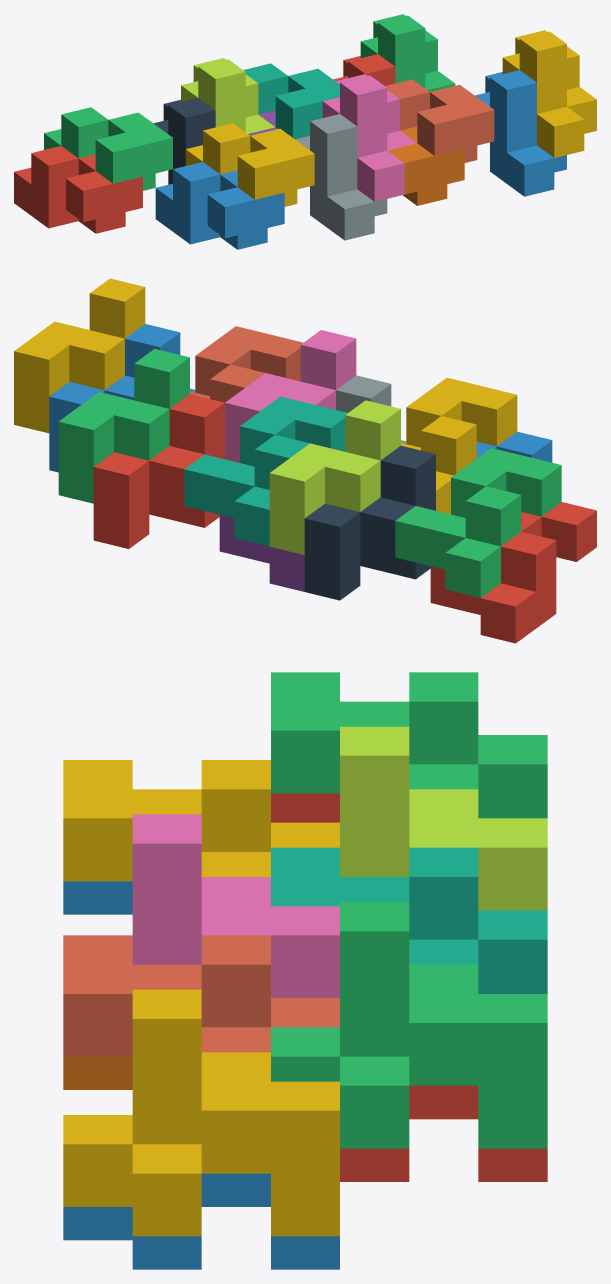
Rendered from tiling.obj.
3 renders of one model, top to bottom at view 1: azimuth 30°, elevation 25°; view 2: azimuth 150°, elevation 25°; view 3: azimuth 270°, elevation 25°, orthographic. The views are drawn at different scales.
Parts seen in each view (by area): view 1: copy_1_domain_2, copy_1_domain_1, copy_2_domain_8, copy_1_domain_4, copy_1_domain_3, copy_2_domain_6, copy_2_domain_2, copy_2_domain_4, copy_1_domain_8, copy_1_domain_7, copy_2_domain_7, copy_2_domain_3 (+3 smaller); view 2: copy_1_domain_3, copy_2_domain_1, copy_2_domain_5, copy_1_domain_7, copy_1_domain_1, copy_2_domain_7, copy_2_domain_8, copy_2_domain_3, copy_1_domain_4, copy_2_domain_4, copy_1_domain_8, copy_2_domain_6 (+3 smaller); view 3: copy_2_domain_8, copy_2_domain_7, copy_1_domain_3, copy_2_domain_3, copy_2_domain_4, copy_1_domain_8, copy_1_domain_4, copy_1_domain_7, copy_2_domain_6, copy_2_domain_5, copy_1_domain_2, copy_1_domain_6 (+1 smaller).
Part boxes in pixels (x1,y1,x2,y2): copy_1_domain_2: (155, 162, 284, 249); copy_1_domain_1: (14, 146, 142, 233); copy_2_domain_8: (502, 30, 596, 157); copy_1_domain_4: (185, 123, 314, 206); copy_1_domain_3: (44, 107, 172, 190); copy_2_domain_6: (475, 70, 566, 196); copy_2_domain_2: (295, 114, 387, 240); copy_2_domain_4: (322, 74, 416, 201); copy_1_domain_8: (385, 79, 494, 162); copy_1_domain_7: (243, 63, 339, 139); copy_2_domain_7: (360, 14, 455, 91); copy_2_domain_3: (181, 58, 274, 133); copy_1_domain_3: (395, 448, 561, 597); copy_2_domain_1: (304, 445, 435, 600); copy_2_domain_5: (93, 394, 224, 548); copy_1_domain_7: (184, 396, 347, 546); copy_1_domain_1: (430, 502, 596, 643); copy_2_domain_7: (58, 349, 189, 503); copy_2_domain_8: (14, 278, 145, 433); copy_2_domain_3: (269, 400, 400, 554); copy_1_domain_4: (401, 377, 517, 514); copy_2_domain_4: (225, 330, 356, 462); copy_1_domain_8: (190, 326, 302, 402); copy_2_domain_6: (49, 324, 195, 472); copy_2_domain_8: (63, 989, 339, 1236); copy_2_domain_7: (271, 902, 547, 1148); copy_1_domain_3: (271, 672, 547, 818); copy_2_domain_3: (340, 726, 547, 910); copy_2_domain_4: (132, 814, 339, 997); copy_1_domain_8: (63, 935, 339, 1056); copy_1_domain_4: (63, 760, 339, 881); copy_1_domain_7: (271, 847, 547, 993); copy_2_domain_6: (63, 1173, 339, 1269); copy_2_domain_5: (340, 1085, 547, 1181); copy_1_domain_2: (63, 881, 132, 914); copy_1_domain_6: (63, 1056, 132, 1089).
Size of the model in its own units: 16 by 4 by 7.
